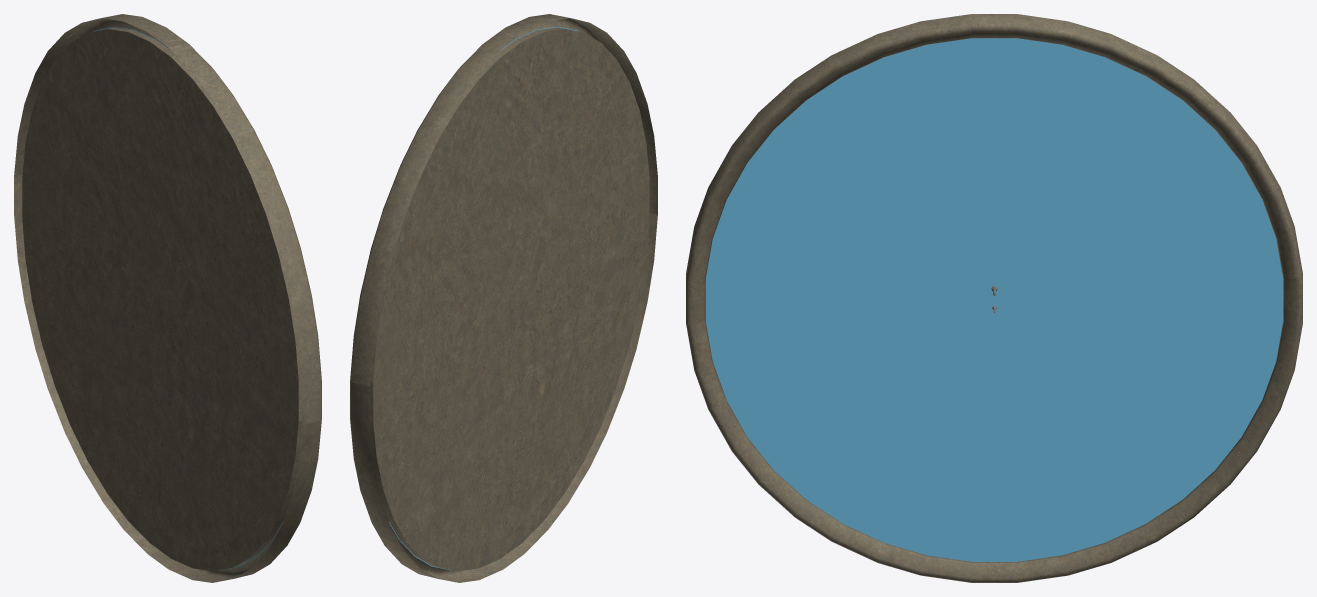
File: cP_WaterFountain02.dae
3 renders of one model, left to right at view 1: azimuth 30°, elevation 25°; view 2: azimuth 150°, elevation 25°; view 3: azimuth 270°, elevation 25°, orthographic. The views are drawn at different scales.
Visible parts, largest first — view 1: cP_WaterFountain02.001; view 2: cP_WaterFountain02.001; view 3: cP_WaterFountain02.001.
Part boxes in pixels (left/top/right/bottom): cP_WaterFountain02.001: left=14, top=14, right=321, bottom=582; cP_WaterFountain02.001: left=350, top=14, right=657, bottom=582; cP_WaterFountain02.001: left=686, top=14, right=1302, bottom=582.
Bounding box in the file's own units: 0.6736 × 15.82 × 15.82.
